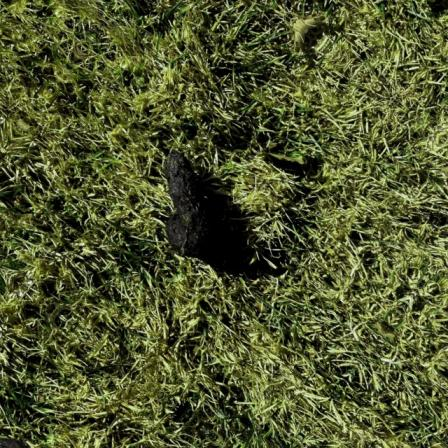dog-poop: (155, 147, 215, 257)
